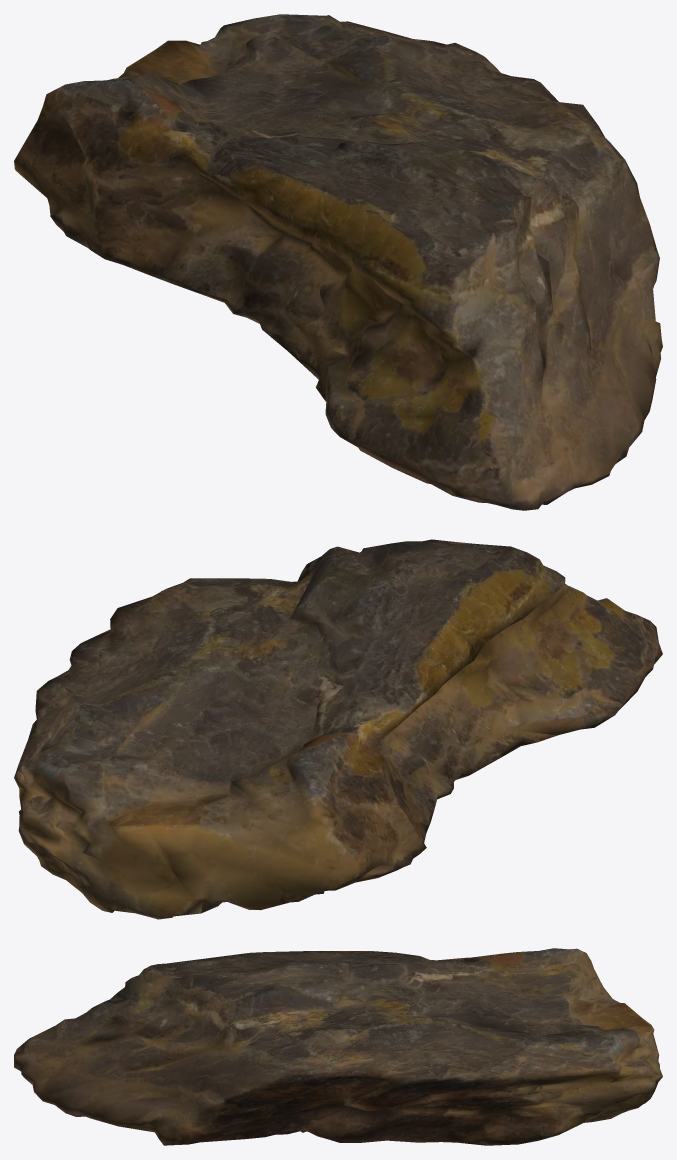
The model's file is rock_b.glb.
3 views of the same model, one above another, from view 1: azimuth 30°, elevation 25°; view 2: azimuth 150°, elevation 25°; view 3: azimuth 270°, elevation 25° (orthographic). The views are drawn at different scales.
Visible parts, largest first — view 1: rock_09_LOD0; view 2: rock_09_LOD0; view 3: rock_09_LOD0.
Boxes of the visible parts, <box> form: rock_09_LOD0: <box>14,14,662,510</box>; rock_09_LOD0: <box>14,539,662,919</box>; rock_09_LOD0: <box>14,948,662,1145</box>.
Size of the model in its own units: 0.0739 by 0.0328 by 0.1446.
1 material, 1 textured.
